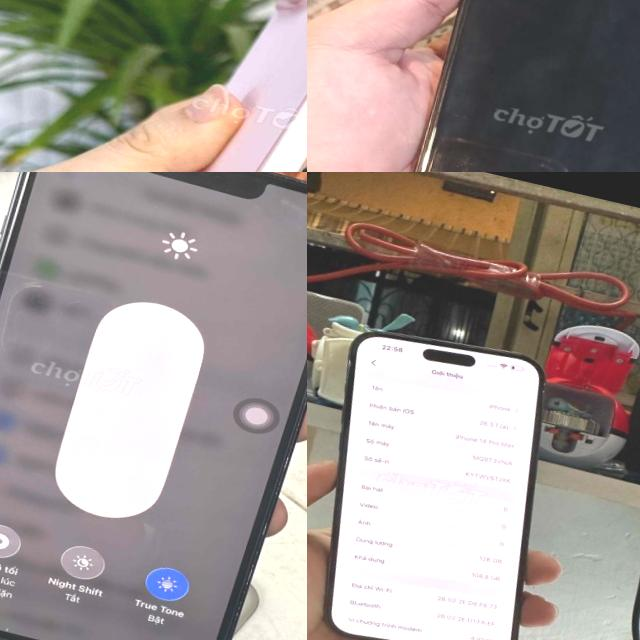gen_11: (378, 0, 640, 172)
gen_12_13: (0, 172, 307, 640), (27, 0, 307, 172)
gen_14: (307, 318, 580, 640)
